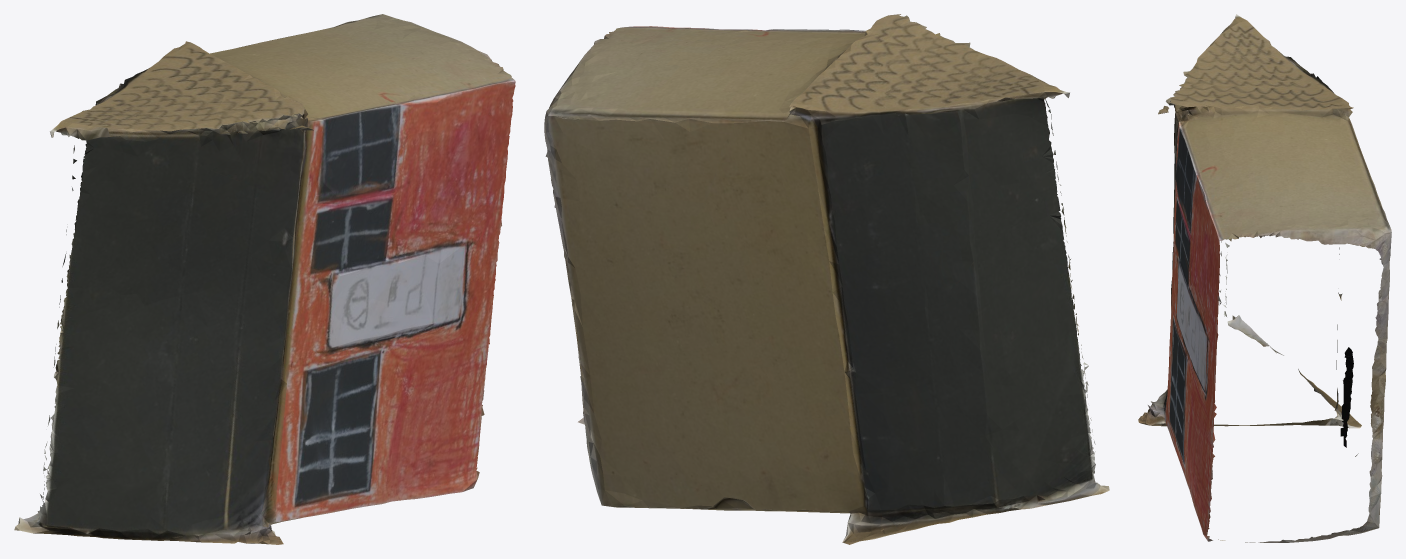
Rendered from m16_5K_1024tex.glb.
The picture shows the model from 3 angles, left to right: view 1: azimuth 30°, elevation 25°; view 2: azimuth 150°, elevation 25°; view 3: azimuth 270°, elevation 25°; orthographic projection. The views are drawn at different scales.
Bounding box in the file's own units: 2.9 × 2.53 × 1.57.
Materials: 1 (1 with a texture image).
